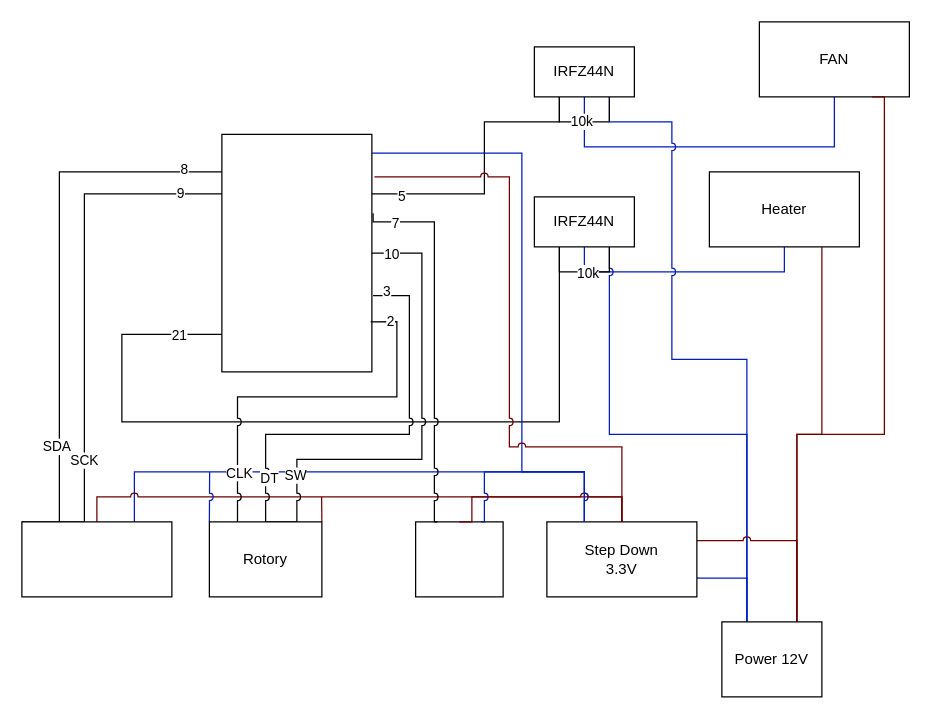
Some shapes in this 931 by 719 pixel diagram are drawn without their labels. The centre of each missing label's shape, as x and y in pixels:
"C3 mini" goes at [296,252].
"DHT11" goes at [458,559].
"Display" goes at [96,559].
